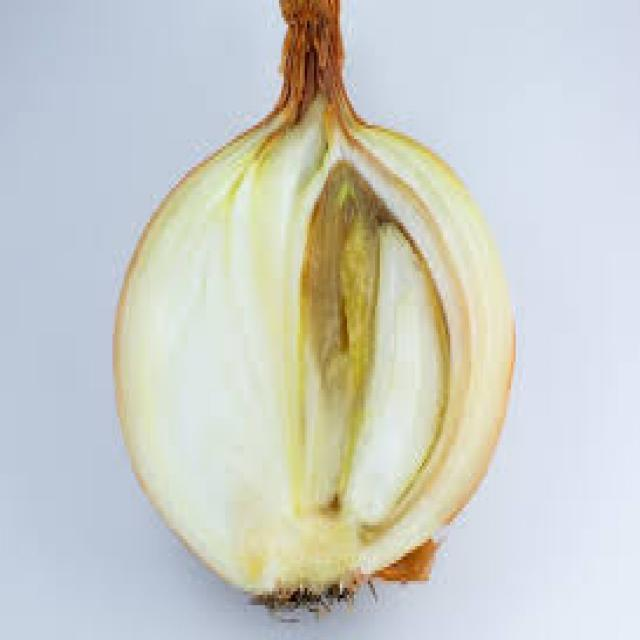Onion: (112, 0, 517, 623)
